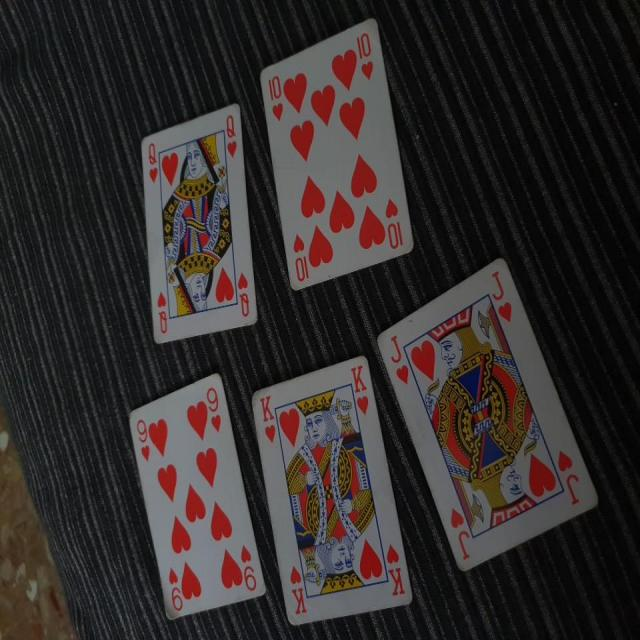10 Hearts: (250, 5, 423, 290)
9 Hearts: (128, 362, 270, 620)
J Hearts: (377, 250, 600, 581)
K Hearts: (248, 353, 418, 628)
Q Hearts: (134, 94, 267, 355)
